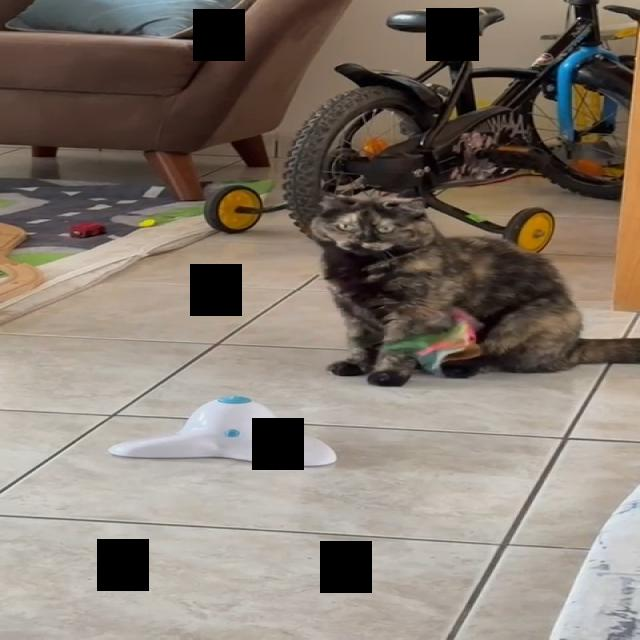authorized: (306, 190, 638, 387)
